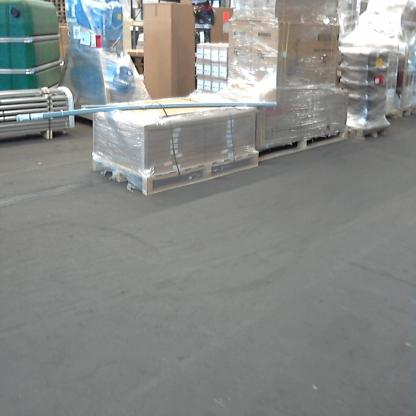pallet: (89, 141, 261, 194), (260, 125, 348, 162), (342, 118, 392, 141), (380, 107, 401, 122), (401, 101, 415, 118)
